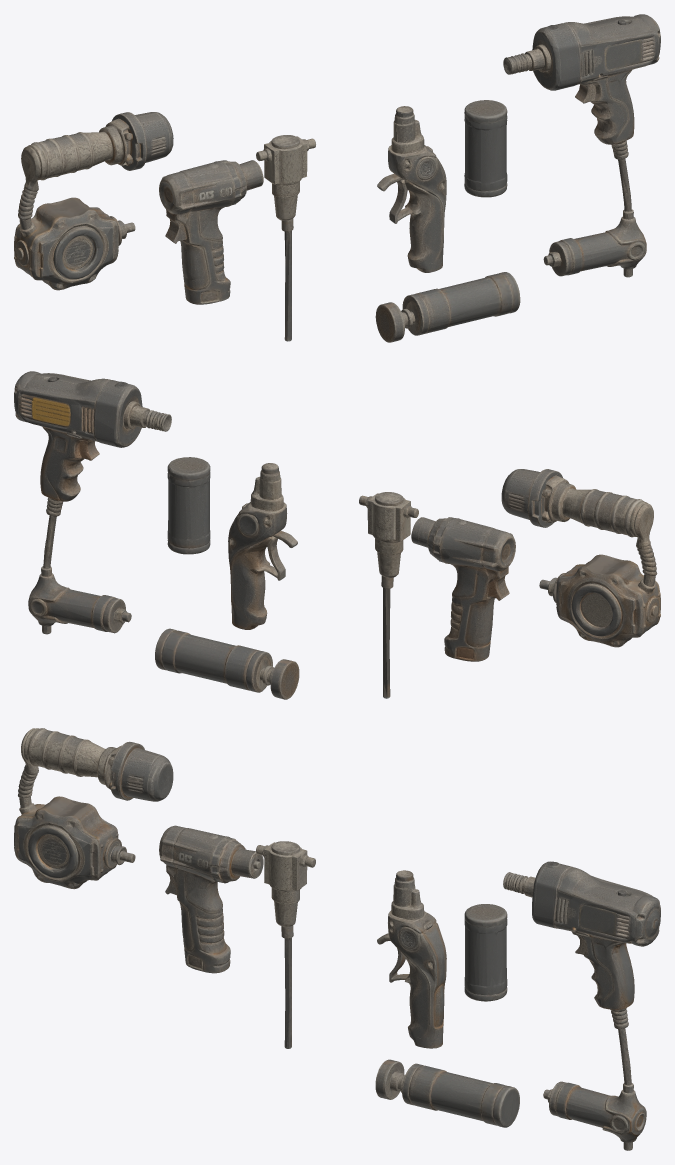
Rendered from TE_tool_wall.glb.
The picture shows the model from 3 angles, top to bottom: view 1: azimuth 30°, elevation 25°; view 2: azimuth 150°, elevation 25°; view 3: azimuth 330°, elevation 25°; orthographic projection.
Size of the model in its own units: 1.9 by 0.8254 by 0.1487.
Materials: 1 (1 with a texture image).
